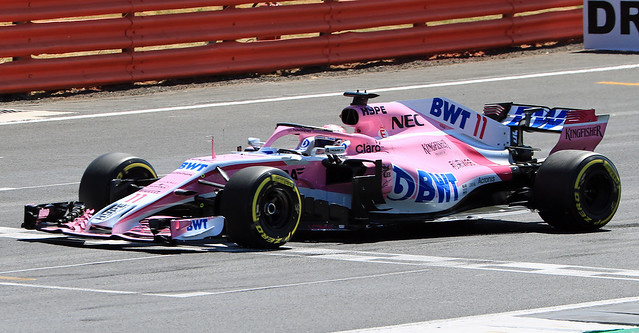F1 Car: (17, 88, 625, 253)
